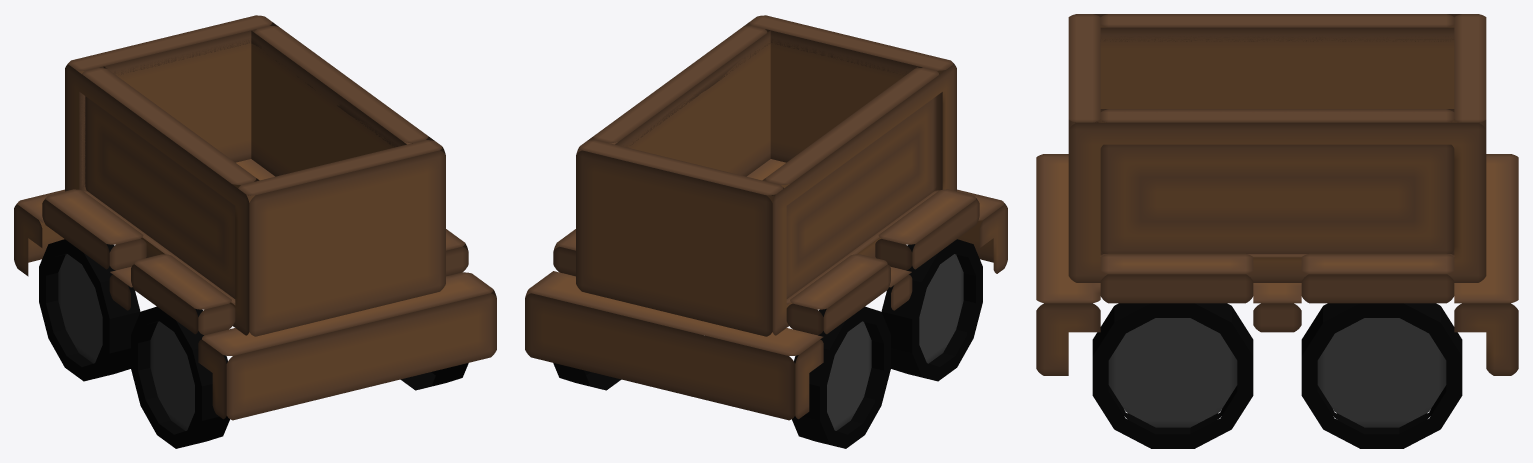
File: MakingCompartment.obj
3 views of the same model, side by side, from view 1: azimuth 30°, elevation 25°; view 2: azimuth 150°, elevation 25°; view 3: azimuth 270°, elevation 25° (orthographic). The views are drawn at different scales.
Parts seen in each view (by area): view 1: mesh, 2_L, 3_L, 3_R; view 2: mesh, 3_L, 2_L, 2_R; view 3: mesh, 3_R, 2_R.
Boxes of the visible parts, x1,y1,x2,y2 form: mesh: [14, 15, 496, 420]; 2_L: [39, 239, 140, 381]; 3_L: [131, 306, 229, 448]; 3_R: [400, 363, 468, 390]; mesh: [525, 15, 1007, 420]; 3_L: [881, 239, 982, 381]; 2_L: [792, 306, 890, 448]; 2_R: [553, 363, 621, 390]; mesh: [1036, 14, 1518, 375]; 3_R: [1092, 303, 1253, 448]; 2_R: [1301, 303, 1462, 448].
Bounding box in the file's own units: 1.38 × 1.31 × 1.88.
Materials: 1 (1 with a texture image).
